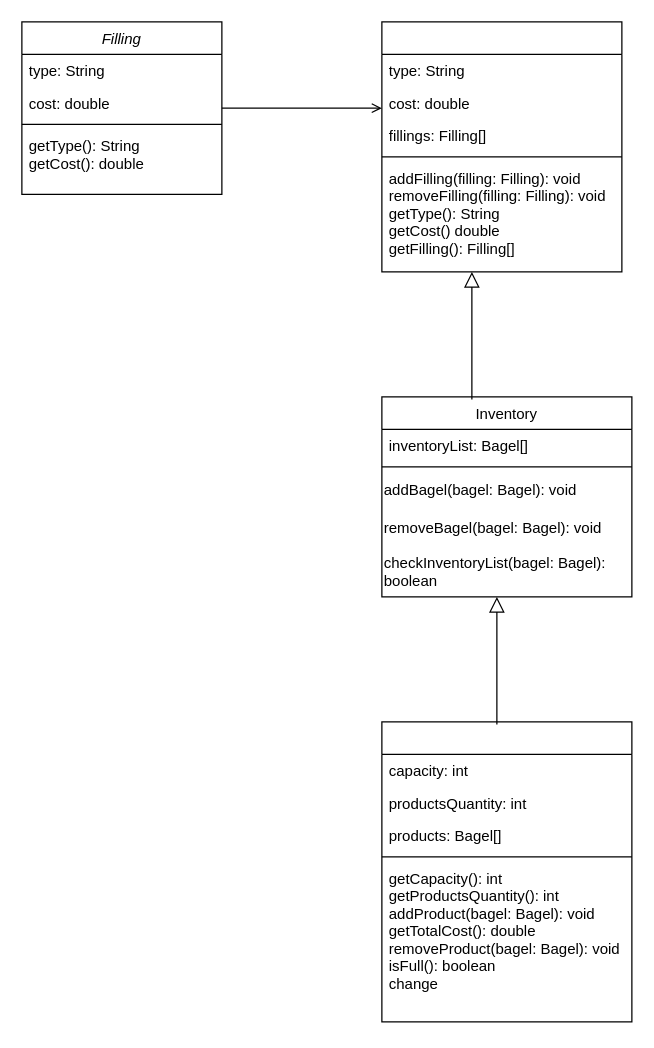
This 654x1048 diagram has some shape labels left out. Here are the shapes that lost their labels. From the top down, the box of each, then its label:
(381, 21, 622, 272): Bagel
(381, 721, 632, 1022): Basket
